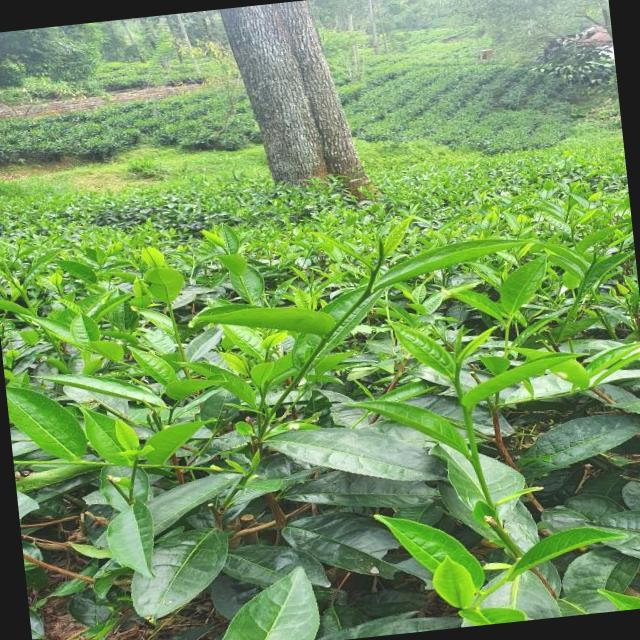Stem: (455, 380, 460, 386), (365, 291, 370, 296), (505, 324, 509, 329), (170, 408, 174, 413)
